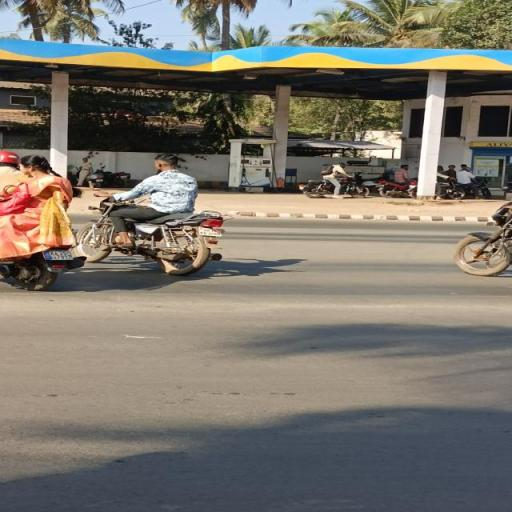bike: (74, 154, 234, 276)
withouthelmet: (155, 154, 177, 172)
